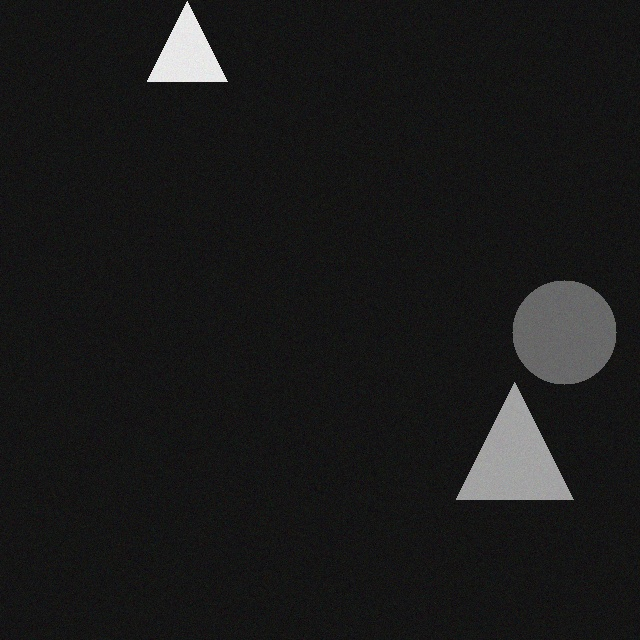circle: (520, 286, 624, 390)
triangle: (464, 388, 581, 505), (155, 7, 235, 87)
